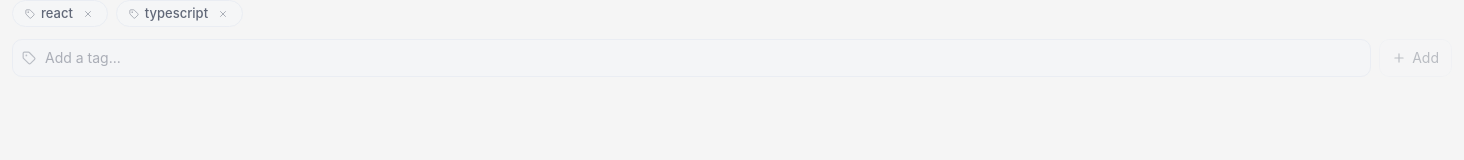
it: TagEditor › shows autocomplete suggestions when typing
In the dropdown with test id "tag-input": (692, 58) x1=12 y1=39 x2=1371 y2=77, type "java"
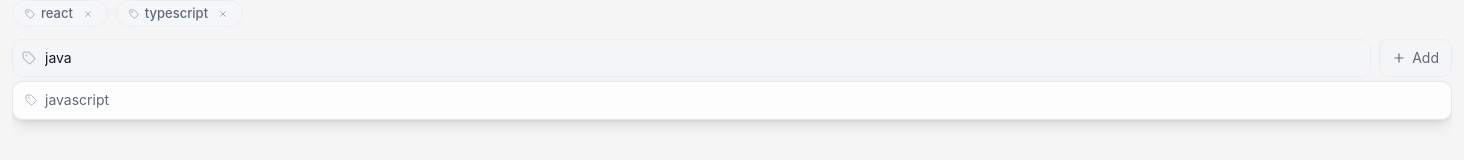
Result: the list with test id "tag-suggestions" is shown at x1=12 y1=81 x2=1452 y2=120
Result: the option with test id "tag-suggestion-javascript" is shown at x1=25 y1=91 x2=109 y2=108
